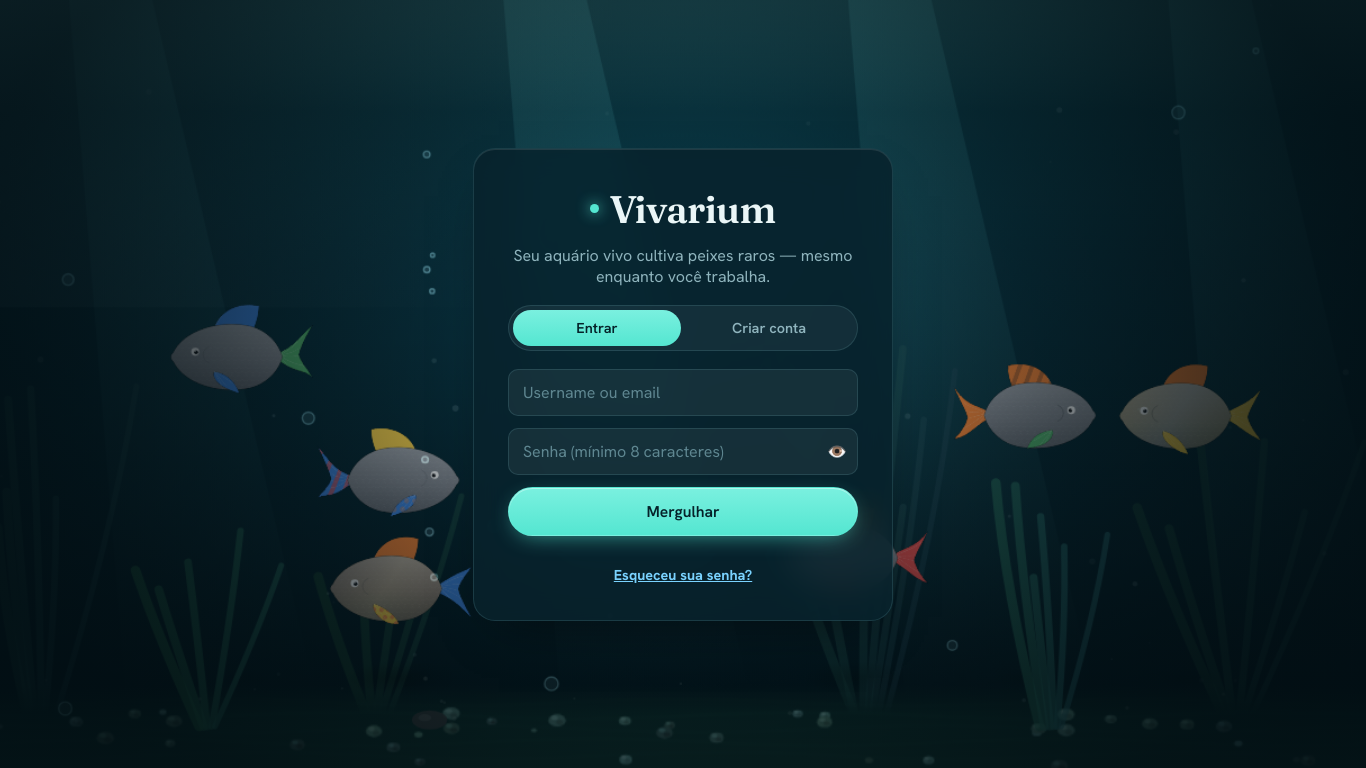
Scenario: Editar perfil › abre com o email atual pré-preenchido
Type "jogador1" into the field with placeholder "Username ou email" at point(683, 393), box [508,369,858,416]
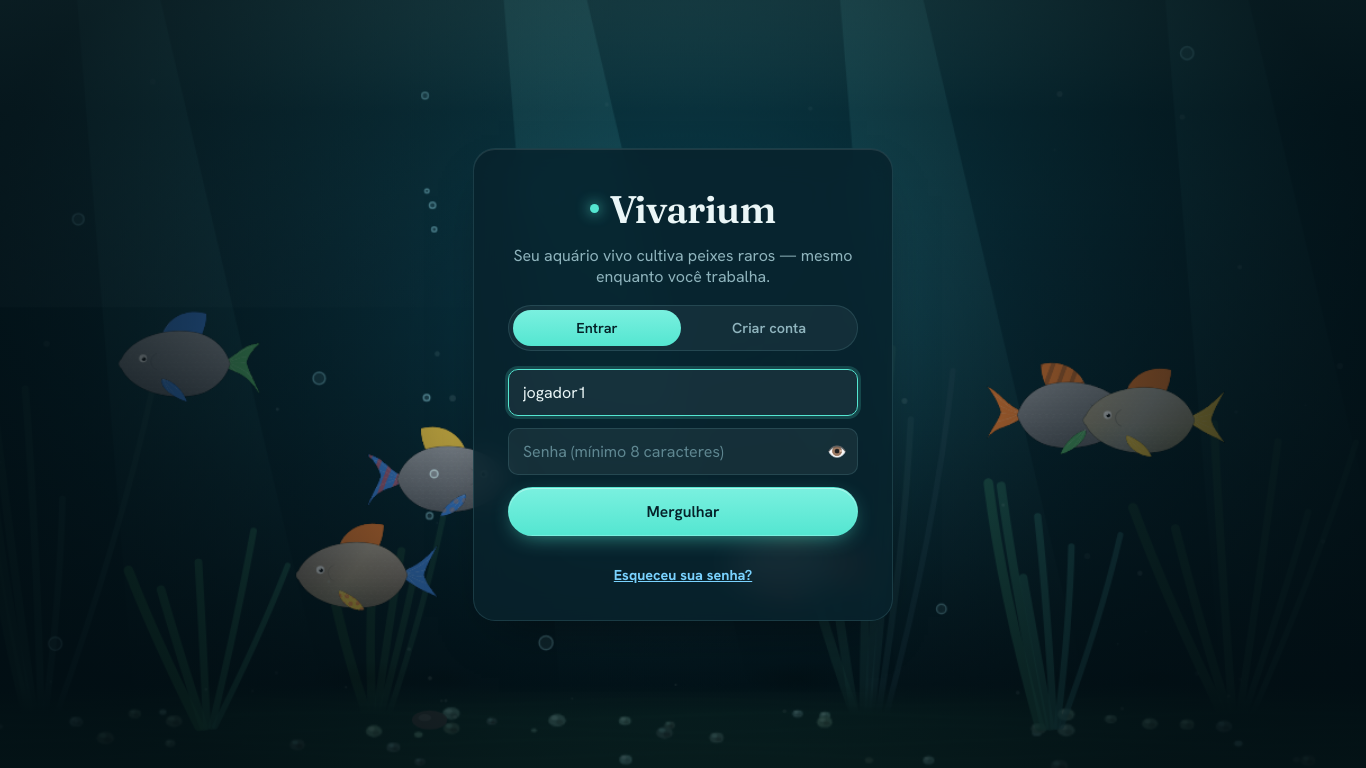
Type "senha-forte-123" into the password field with placeholder "Senha (mínimo 8 caracteres)" at point(683, 452), box [508,428,858,475]
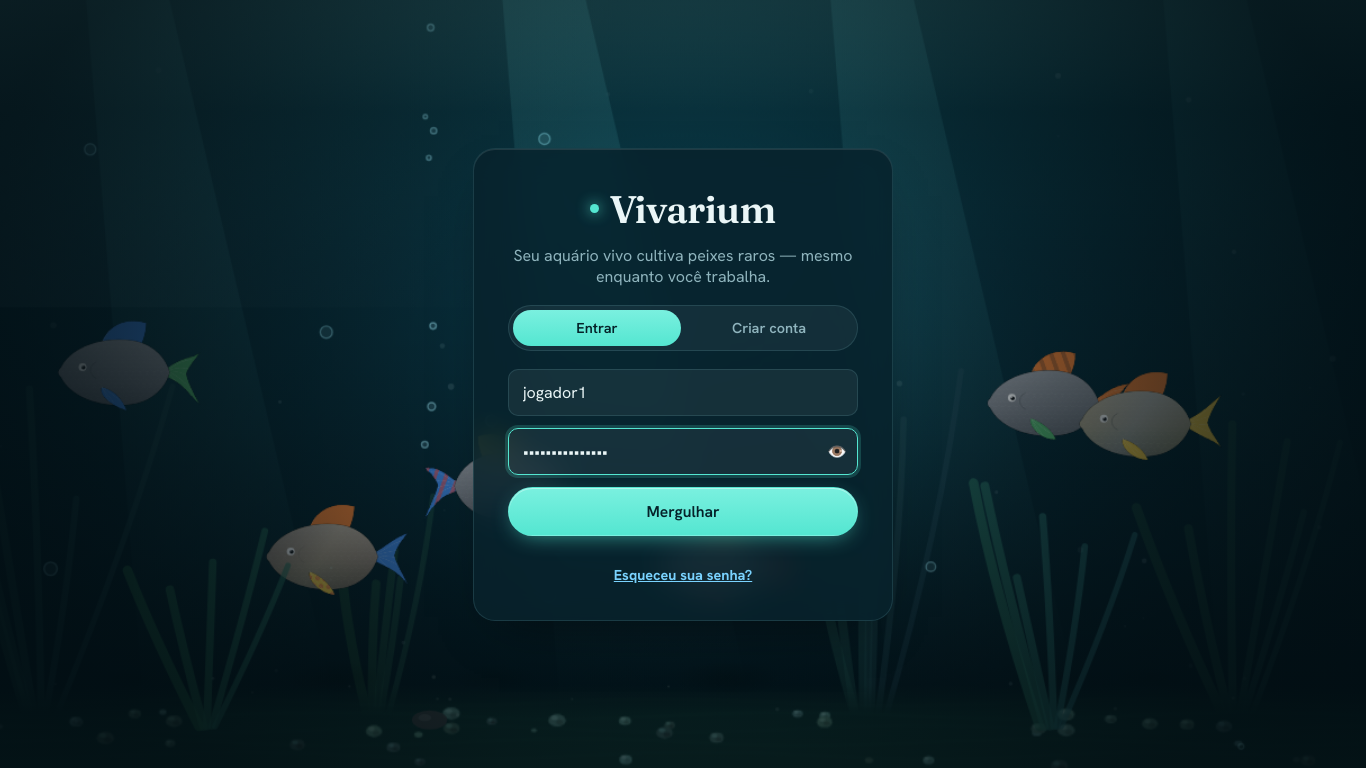
Click the button "Mergulhar" at point(683, 512), box [508,487,858,536]
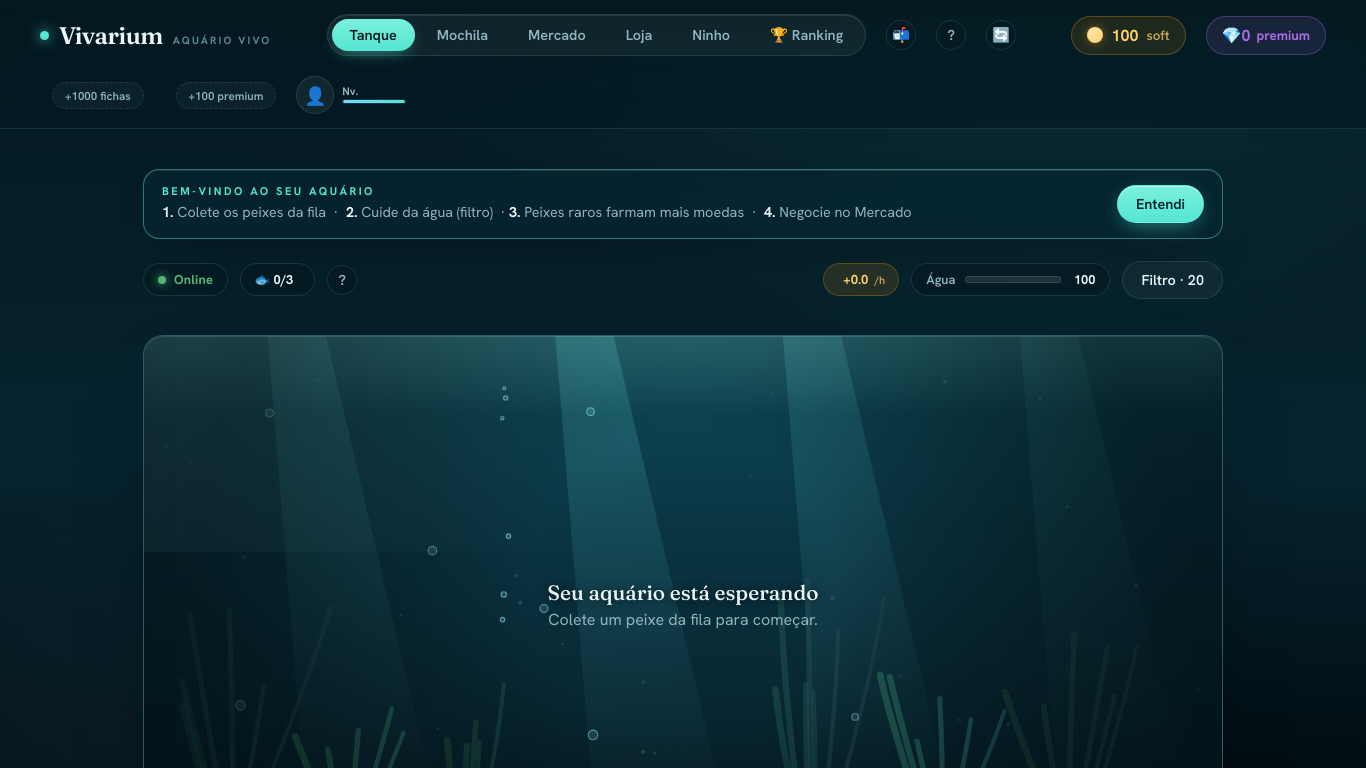
Click the button with class "account-btn" at point(315, 95), box [296,76,334,114]
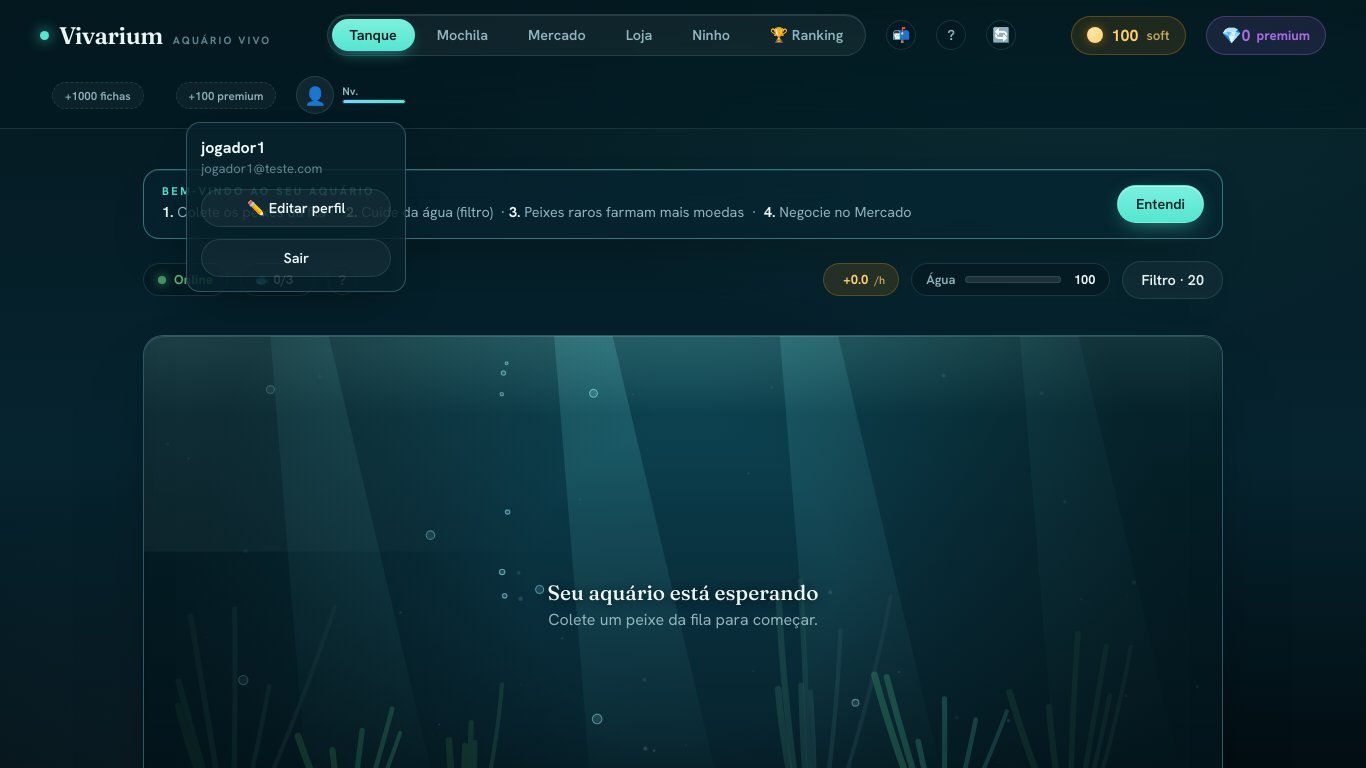
Click the button "✏️ Editar perfil" at point(296, 208), box [201,189,391,227]
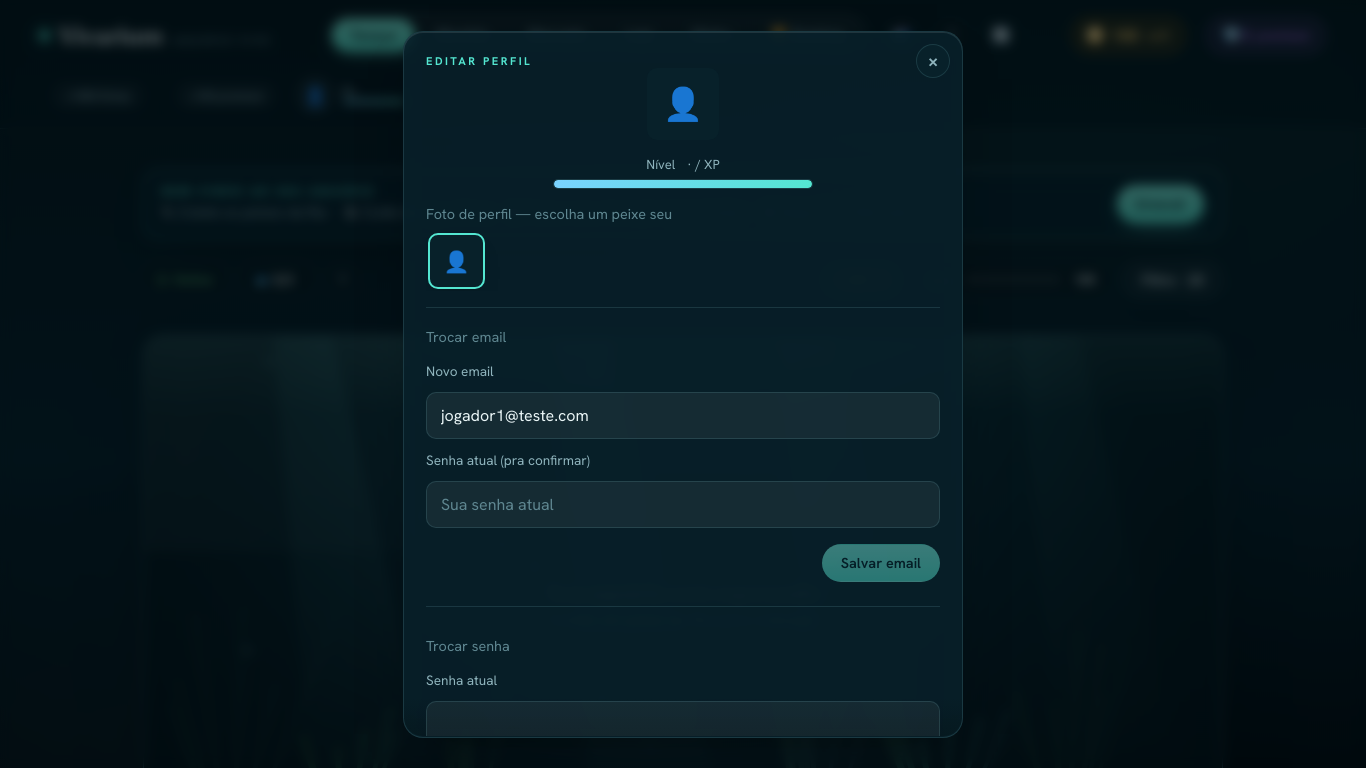
Check: the text "Editar perfil" is shown, box [426,54,532,68]
Check: the field holds "jogador1@teste.com", box [426,392,940,439]
